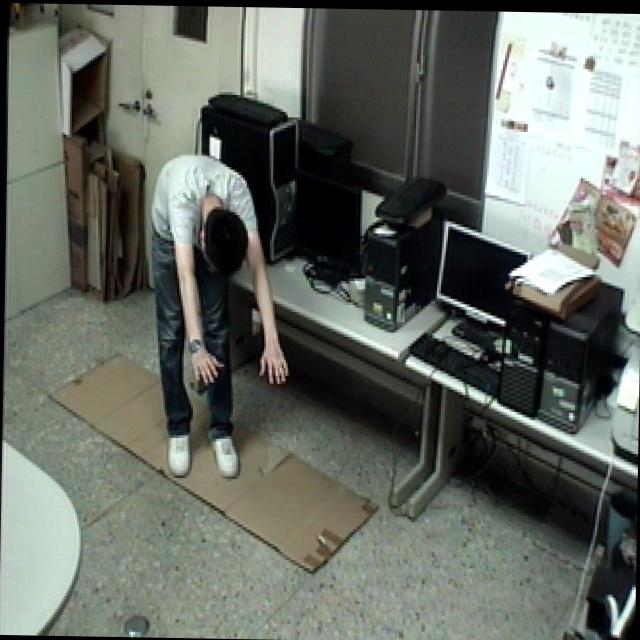bend: (140, 149, 300, 482)
